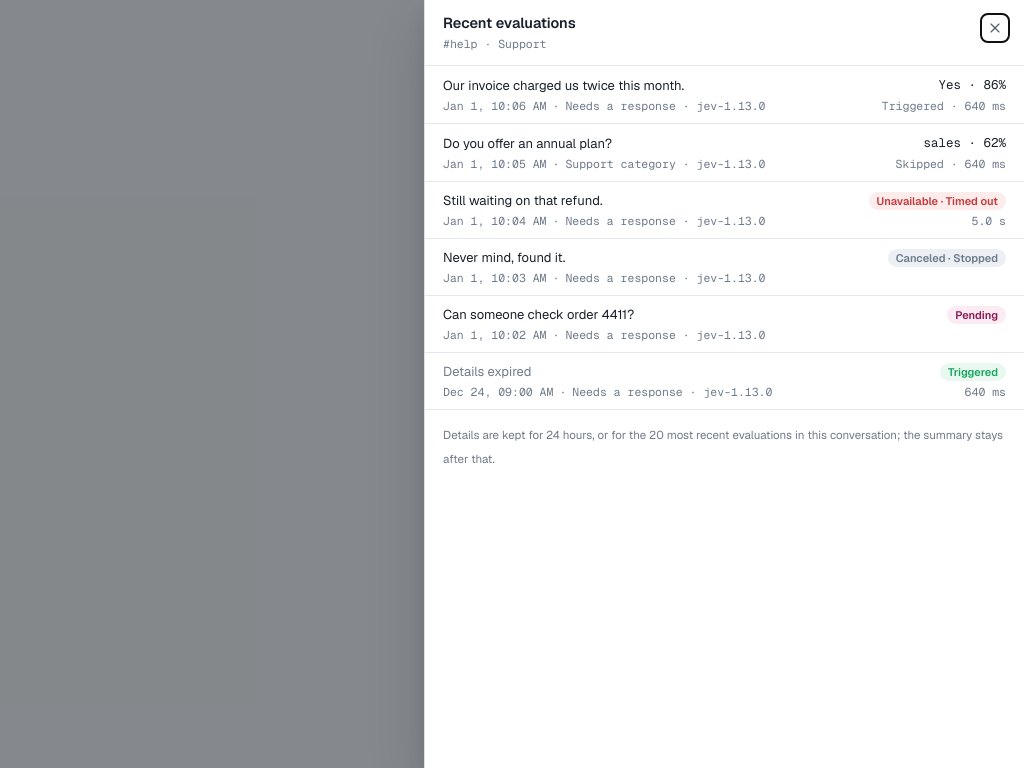
Test: DecisionEvaluationsDrawer › shows the frozen detail with the model result and the raw Jev request and response
Click the button that starts with "Our invoice charged us twice this month.".
click(564, 86)  # box [425, 66, 1023, 123]
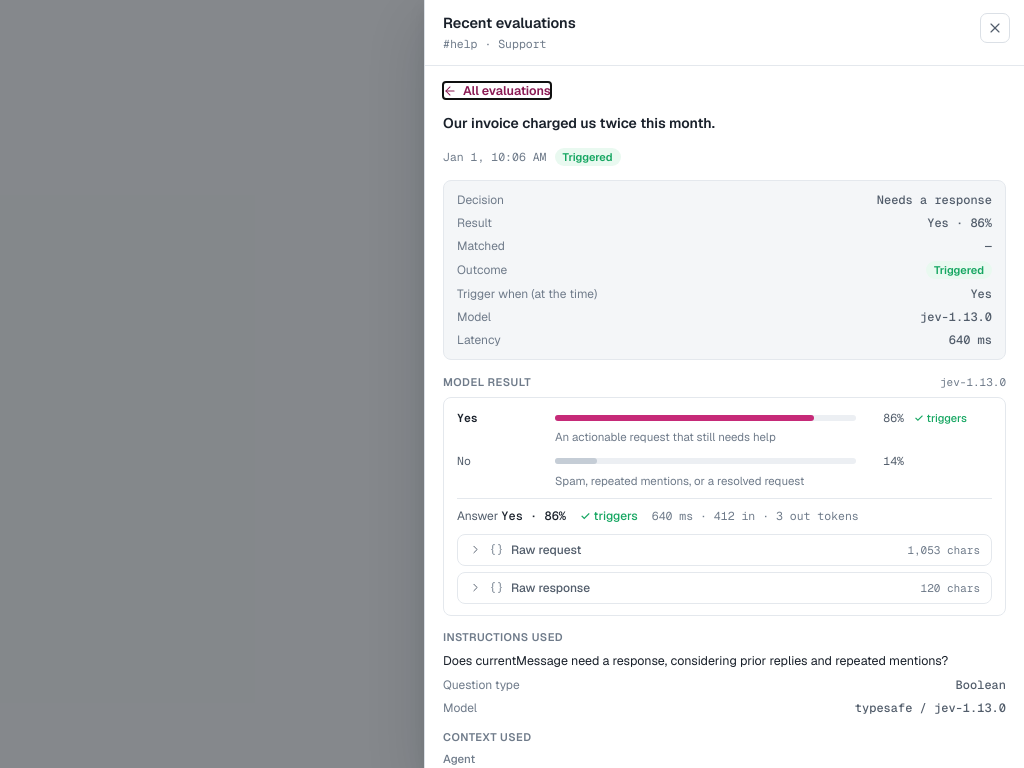
Expected: the element with test id "evaluation-detail" shows "Our invoice charged us twice this month.", [443, 114, 715, 132]
Expected: the element with test id "evaluation-detail" shows "Does currentMessage need a response", [443, 652, 948, 668]
Expected: the element with test id "evaluation-detail" shows "Trigger when (at the time)", [457, 286, 597, 302]
